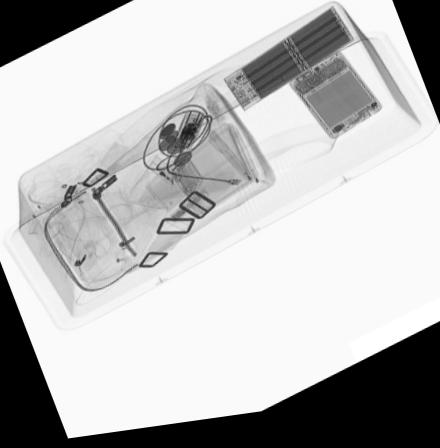Lighter: (143, 158, 183, 191)
